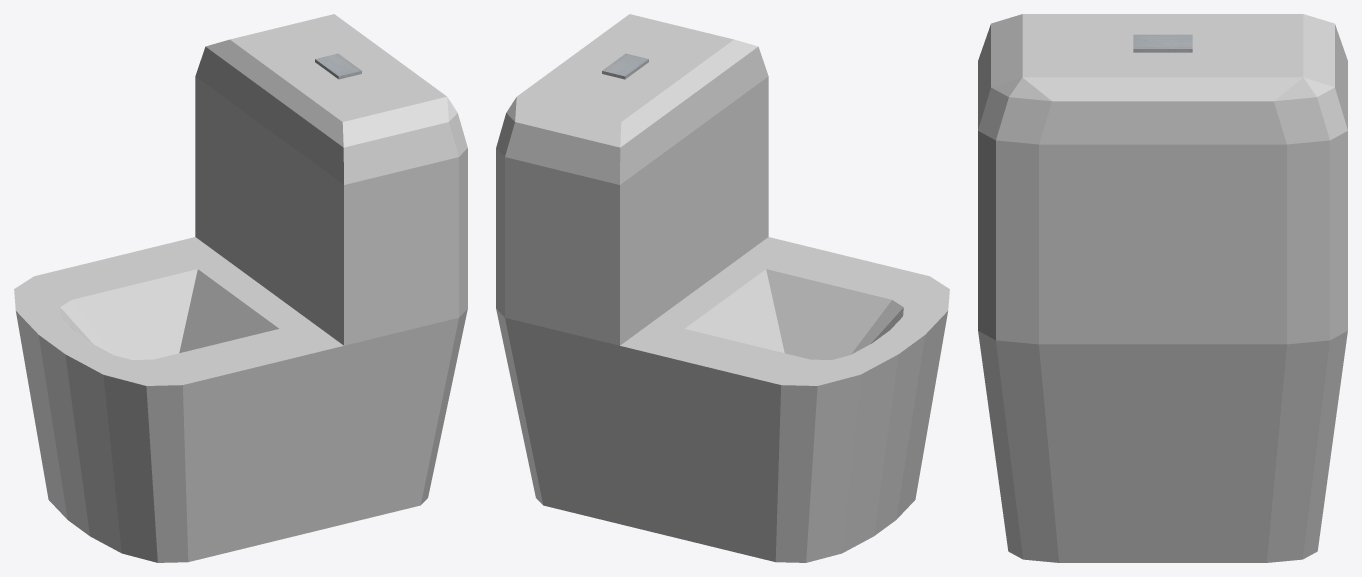
Rendered from TOILETTE.fbx.
3 renders of one model, left to right at view 1: azimuth 30°, elevation 25°; view 2: azimuth 150°, elevation 25°; view 3: azimuth 270°, elevation 25°, orthographic. The views are drawn at different scales.
Visible parts, largest first — view 1: TOILETTE; view 2: TOILETTE; view 3: TOILETTE.
Part boxes in pixels (x1,y1,x2,y2): TOILETTE: (14, 14, 467, 562); TOILETTE: (496, 14, 949, 562); TOILETTE: (978, 14, 1347, 562).
Size of the model in its own units: 89.77 by 96.54 by 65.06.
